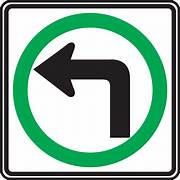left: (12, 12, 168, 168)
